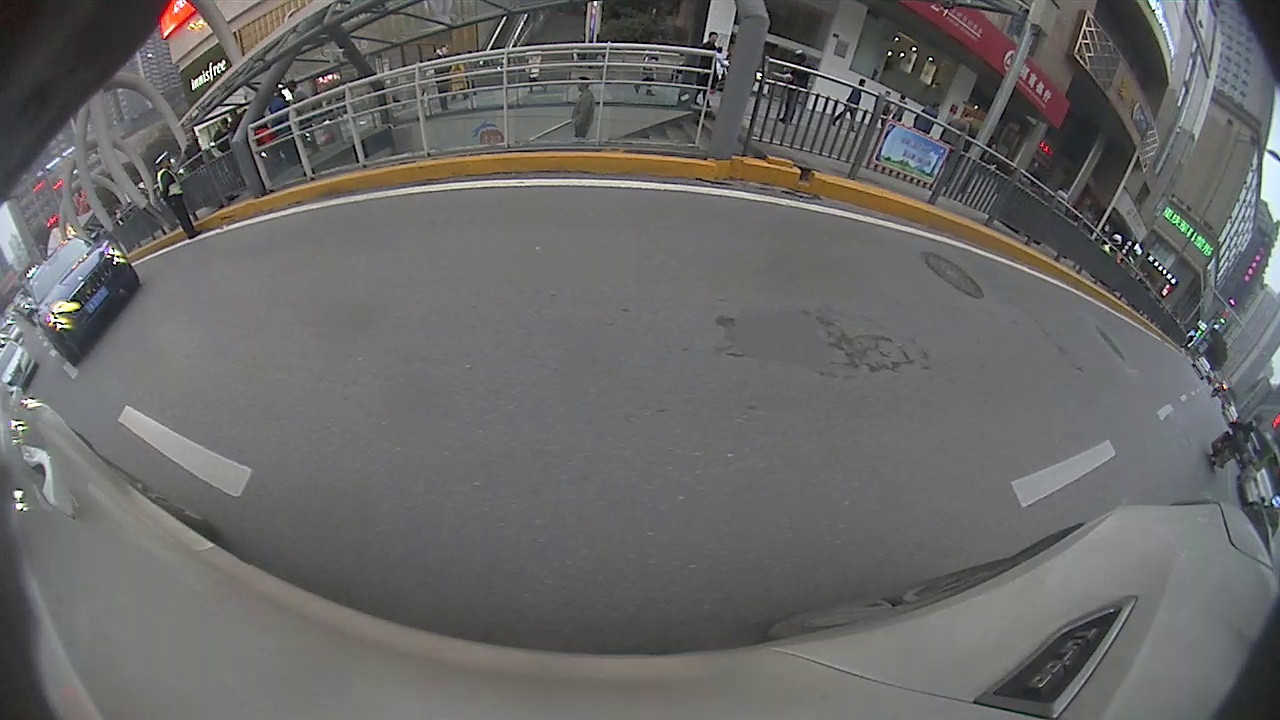car: (21, 233, 141, 366)
person: (156, 150, 203, 240)
